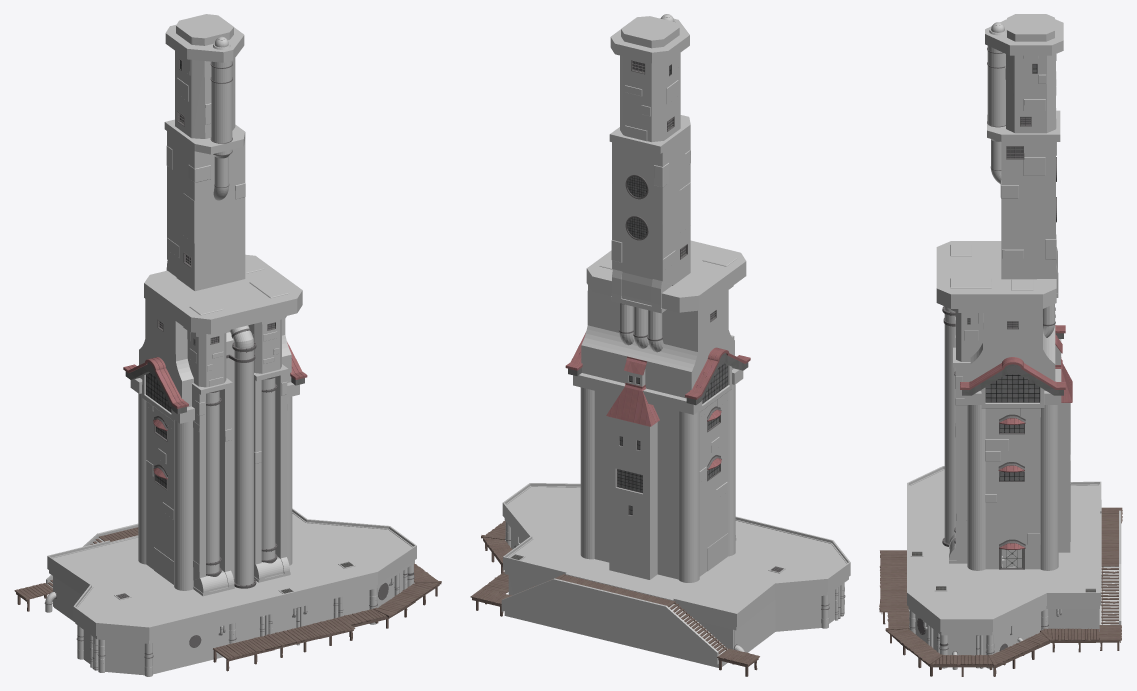
The model's file is AreaF_Building_A.fbx.
The picture shows the model from 3 angles, left to right: view 1: azimuth 30°, elevation 25°; view 2: azimuth 150°, elevation 25°; view 3: azimuth 270°, elevation 25°; orthographic projection. The views are drawn at different scales.
Parts seen in each view (by area): view 1: SM_ENV_AMVLLG02_AreaF_Building_A.mo; view 2: SM_ENV_AMVLLG02_AreaF_Building_A.mo; view 3: SM_ENV_AMVLLG02_AreaF_Building_A.mo.
Boxes of the visible parts, left/top/right/bottom form: SM_ENV_AMVLLG02_AreaF_Building_A.mo: left=14, top=14, right=441, bottom=676; SM_ENV_AMVLLG02_AreaF_Building_A.mo: left=470, top=14, right=850, bottom=676; SM_ENV_AMVLLG02_AreaF_Building_A.mo: left=879, top=14, right=1122, bottom=676.
Bounding box in the file's own units: 4043 × 6611 × 2551.
